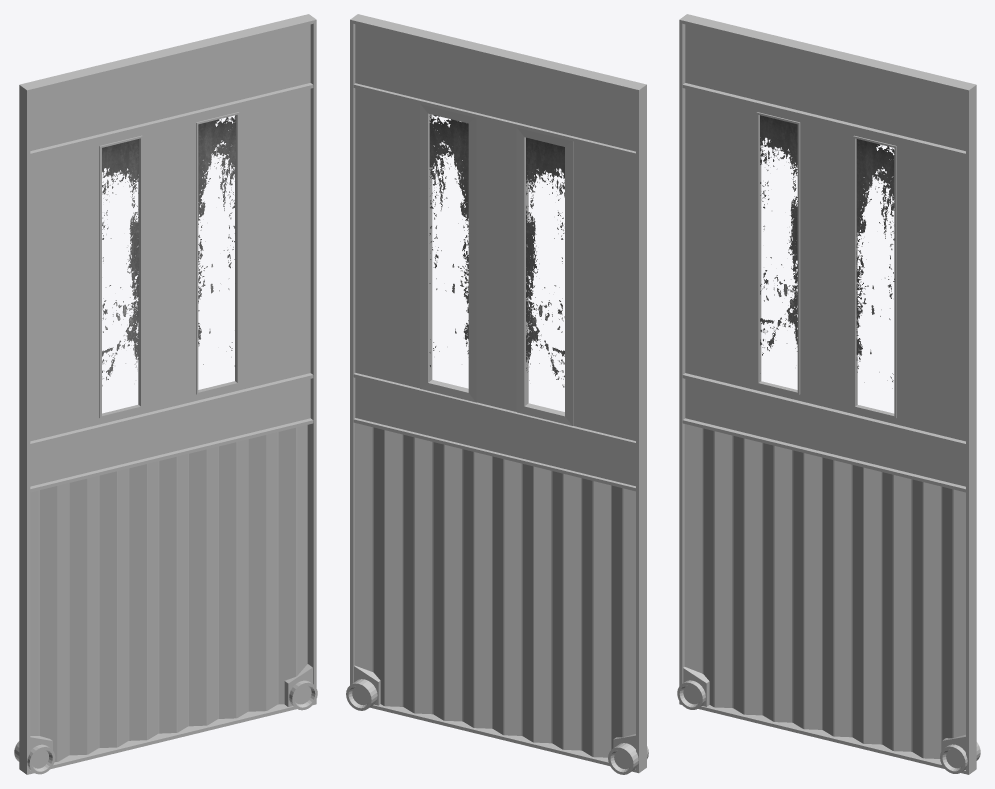
Rendered from SM_hangar_gate_door_01.fbx.
The picture shows the model from 3 angles, left to right: view 1: azimuth 30°, elevation 25°; view 2: azimuth 150°, elevation 25°; view 3: azimuth 330°, elevation 25°; orthographic projection.
Parts seen in each view (by area): view 1: SM_hangar_gate_door_01; view 2: SM_hangar_gate_door_01; view 3: SM_hangar_gate_door_01.
Part boxes in pixels (<box>): SM_hangar_gate_door_01: <box>14,14,317,774</box>; SM_hangar_gate_door_01: <box>346,14,648,774</box>; SM_hangar_gate_door_01: <box>677,14,980,774</box>.
Bounding box in the file's own units: 463 × 42.74 × 1047.
